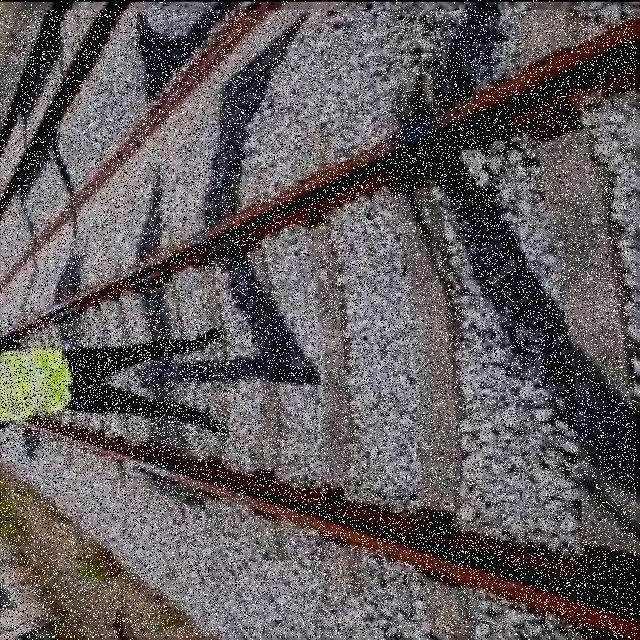rail: (2, 11, 637, 638)
